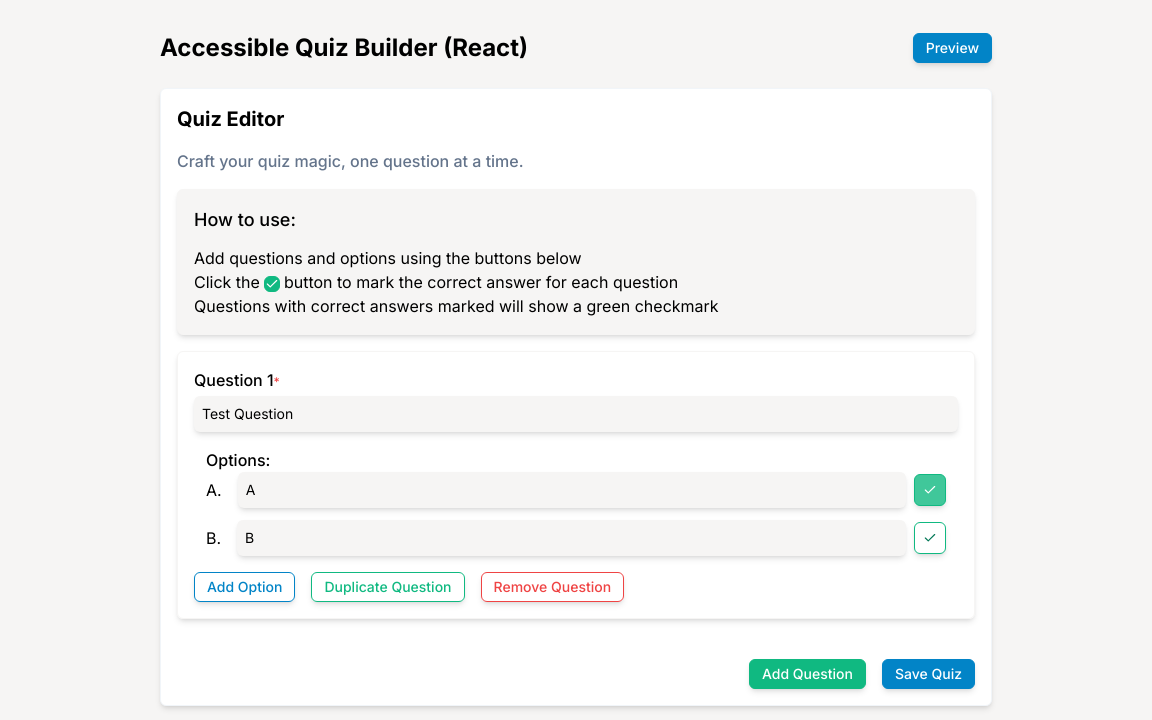
it: App › switches to results mode when submit is clicked
Click the button "Preview": (952, 48) [913,33,992,63]
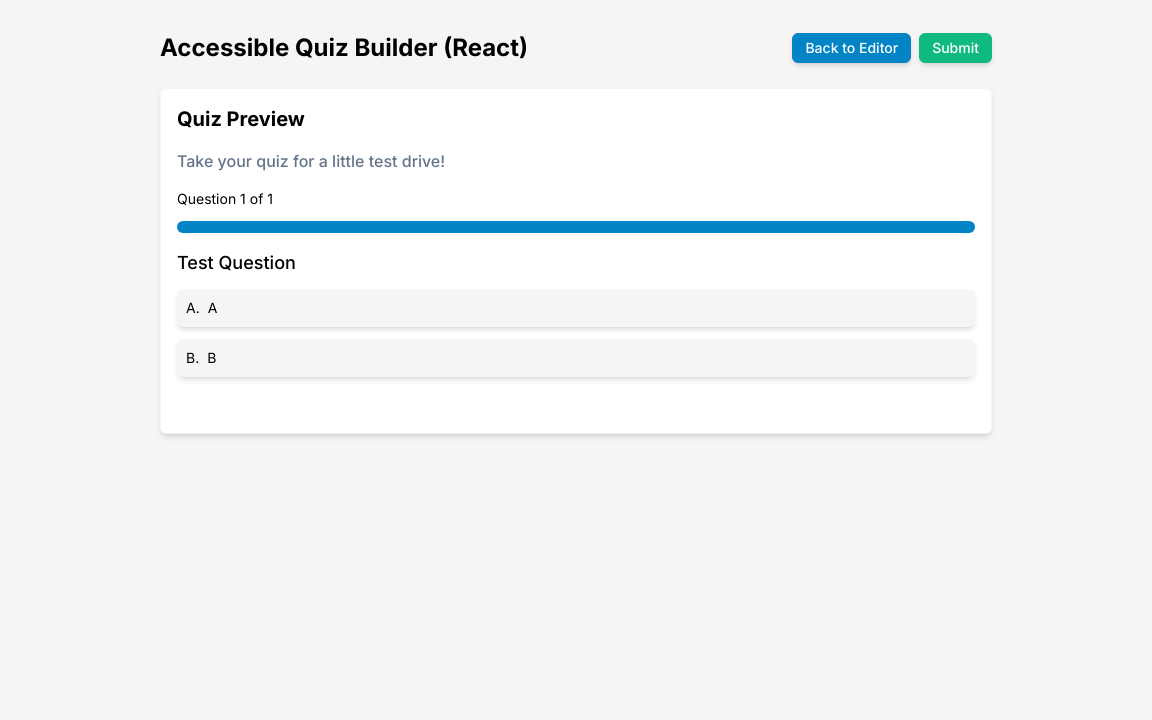
Click the button "Submit": (956, 48) [919,33,992,63]
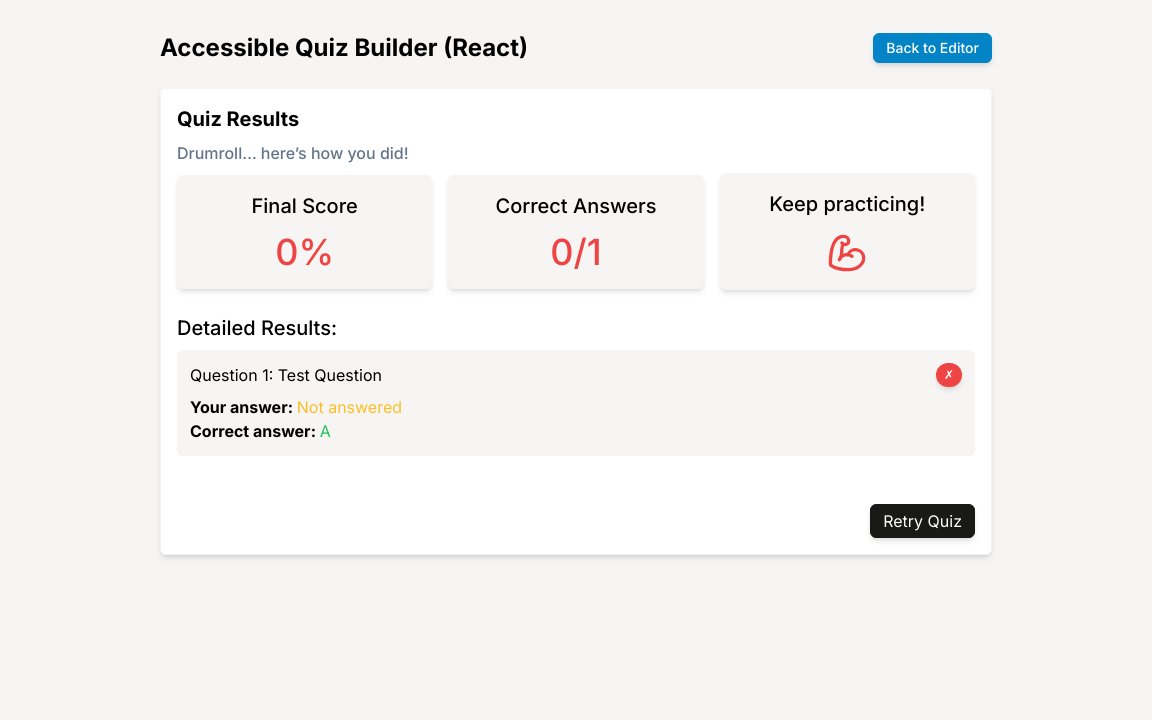
Now the heading "Quiz Results" is shown, box [177,107,299,131]
